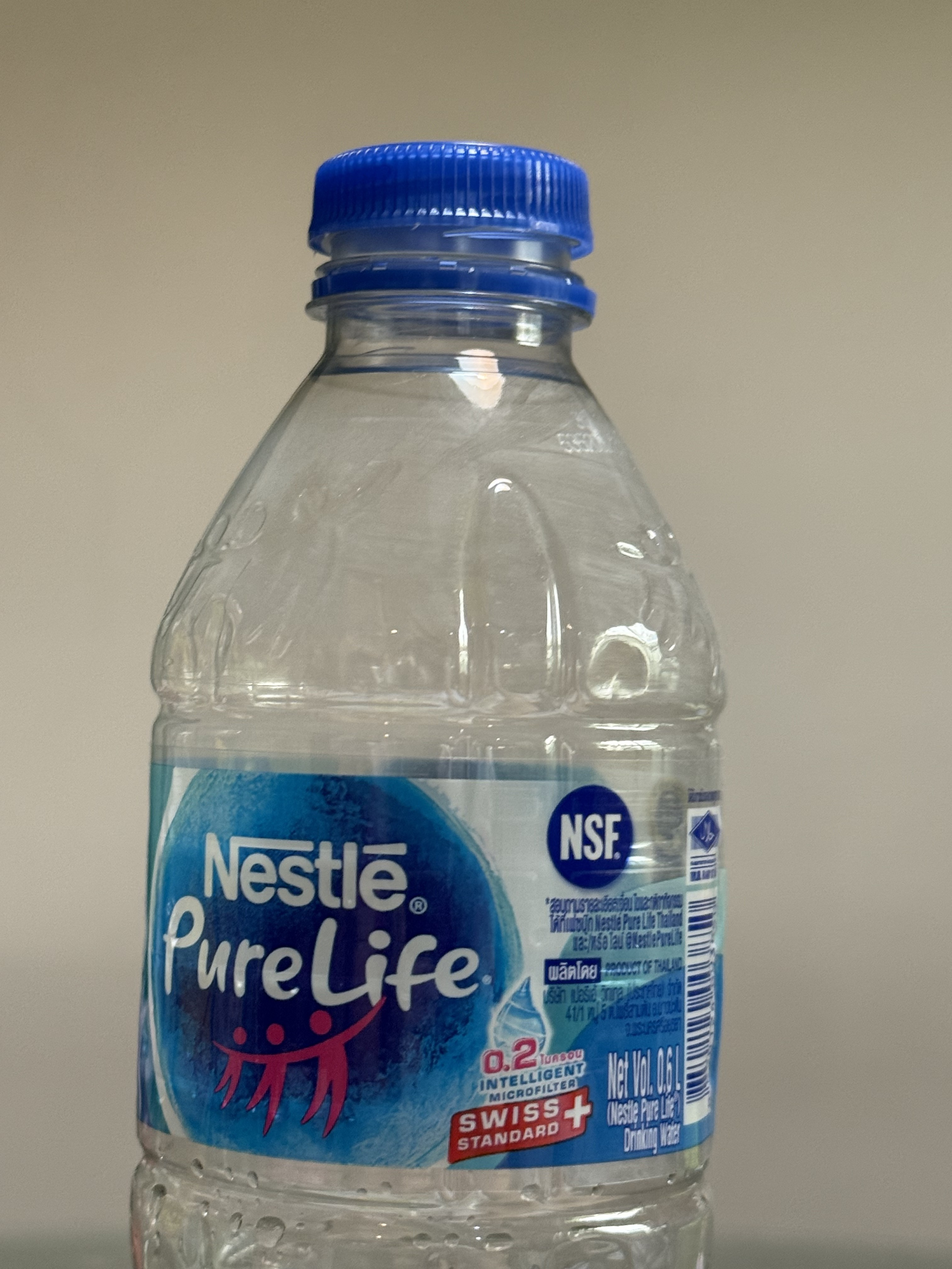half_cap: (296, 132, 603, 329)
